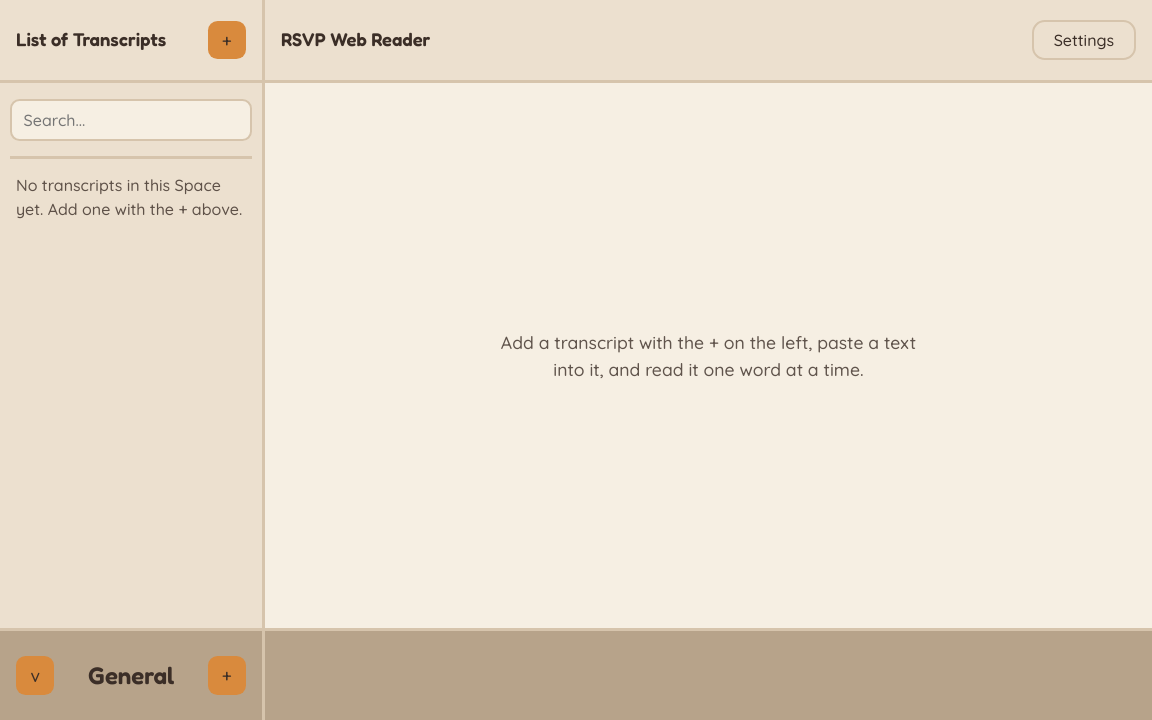
Test: transcripts › adding one puts it in the list, opens it and shows its title
This screenshot has width=1152, height=720.
Step 1. Click the button named "Add transcript" → [227, 40], box [208, 21, 246, 59]
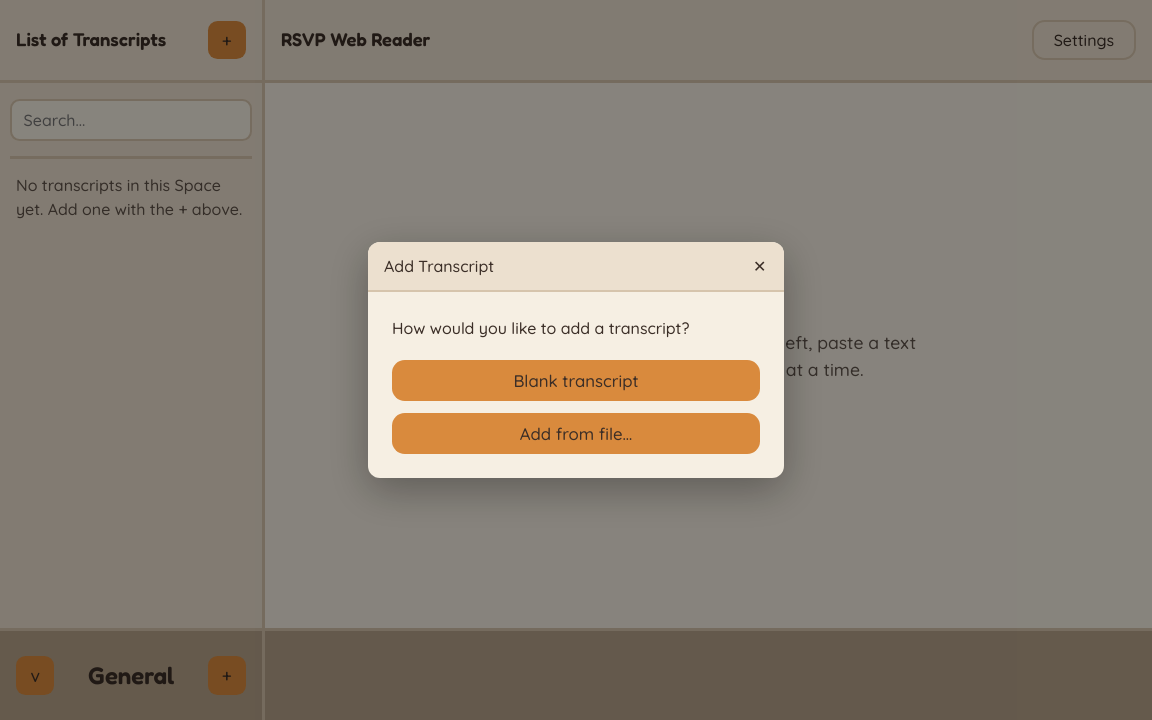
Step 2. Click the button "Blank transcript" → [576, 380], box [392, 360, 760, 401]
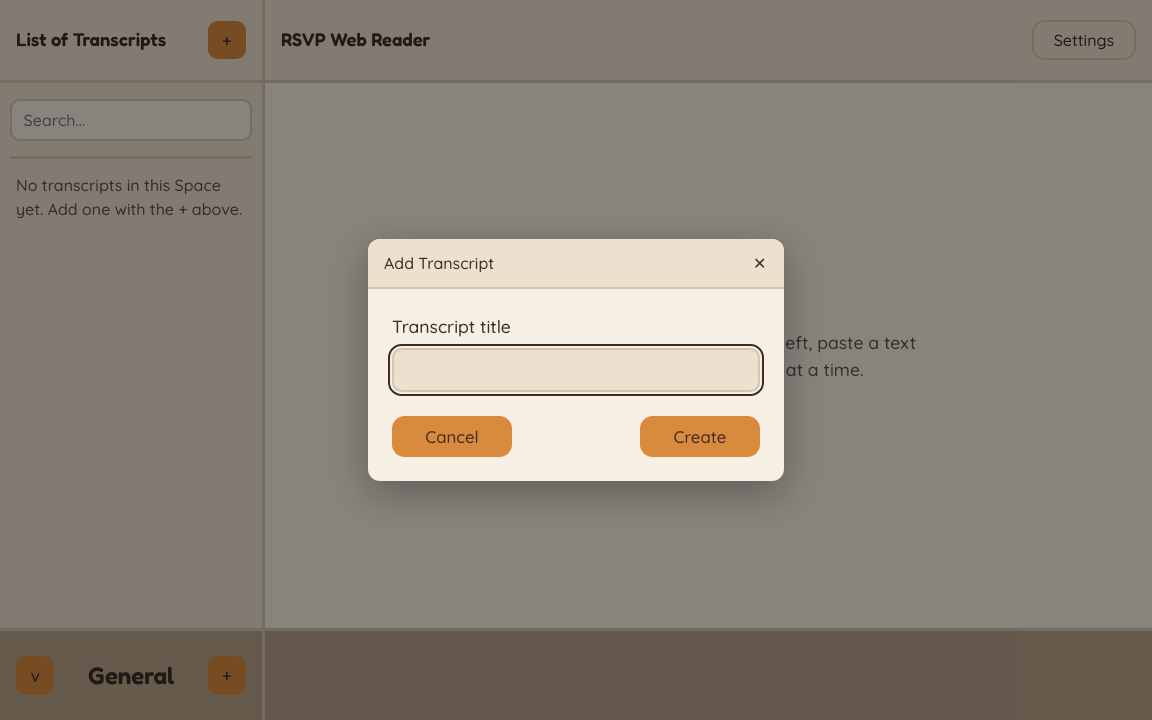
Step 3. Type "  My notes  " into the field → [576, 370], box [392, 348, 760, 392]
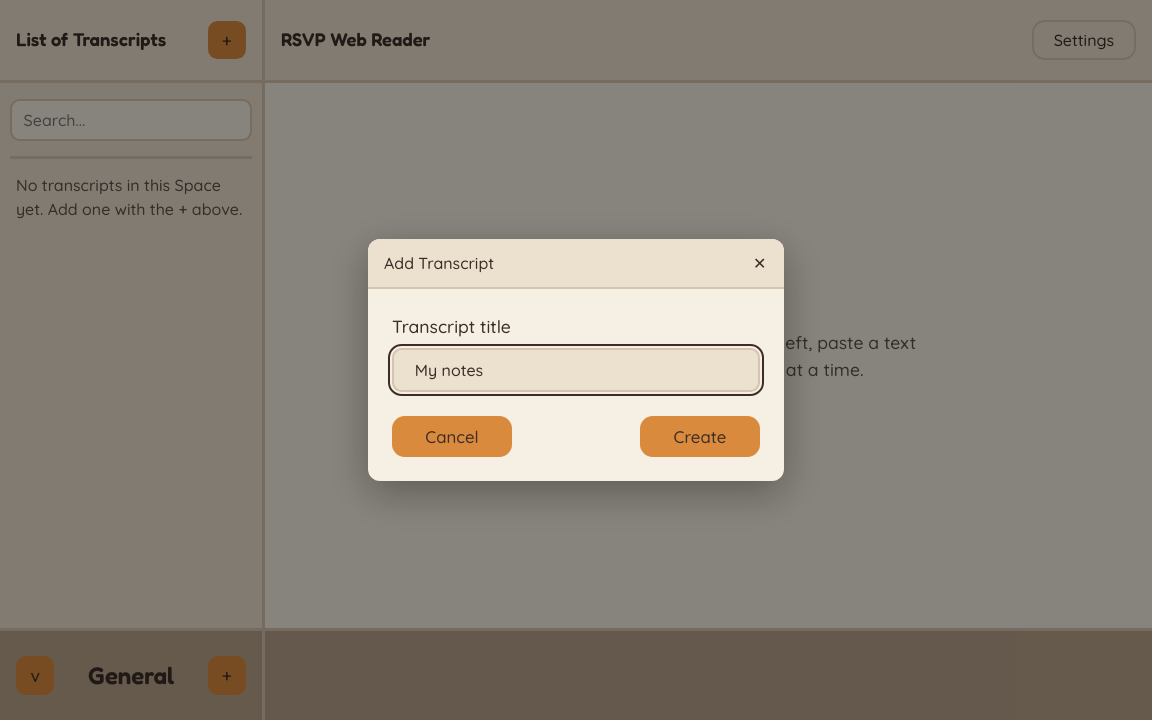
Step 4. Click the button "Create" → [700, 436], box [640, 416, 760, 457]
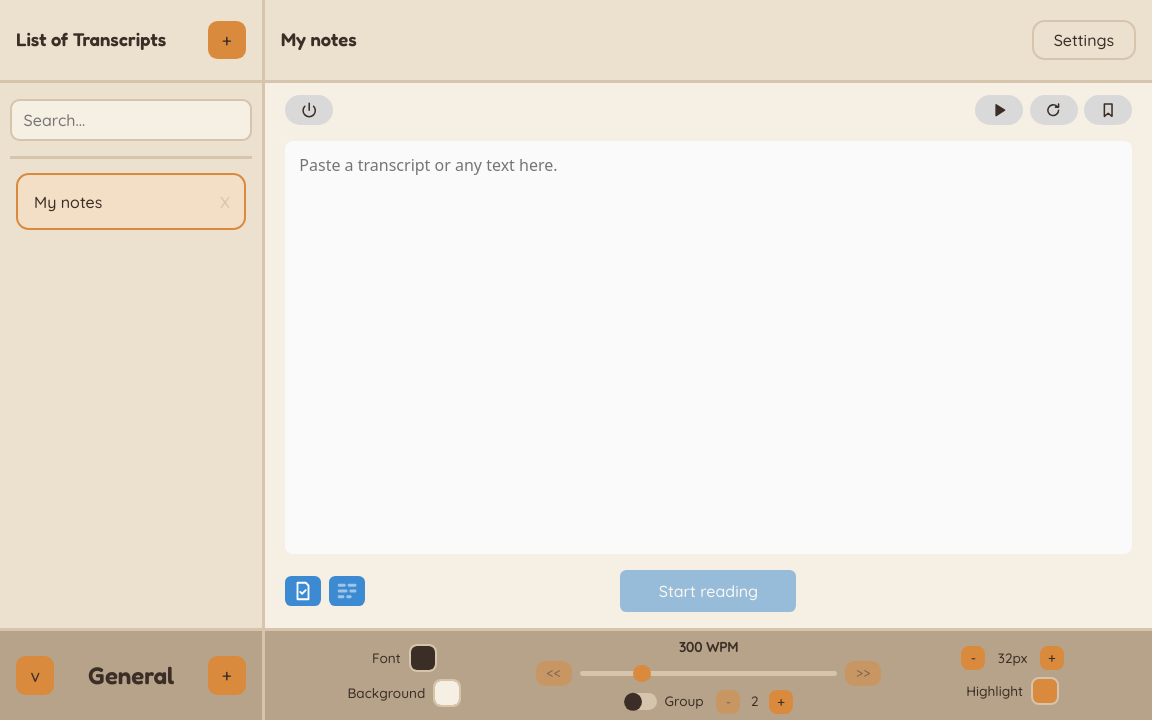
Now the heading "My notes" is shown, box [281, 26, 357, 54]
Now the text box named "Transcript text" is empty, box [285, 141, 1132, 554]
